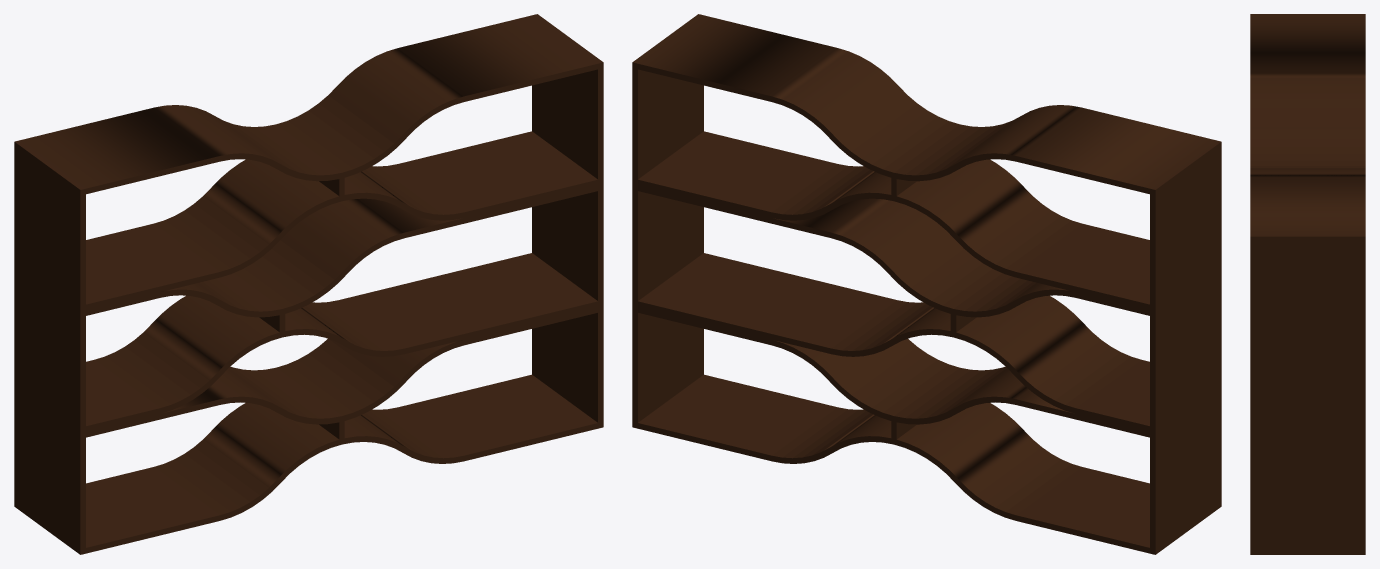
3 renders of one model, left to right at view 1: azimuth 30°, elevation 25°; view 2: azimuth 150°, elevation 25°; view 3: azimuth 270°, elevation 25°, orthographic. The views are drawn at different scales.
Visible parts, largest first — view 1: mesh1_mesh1-geometry; view 2: mesh1_mesh1-geometry; view 3: mesh1_mesh1-geometry.
Part boxes in pixels (x1,y1,x2,y2): mesh1_mesh1-geometry: (14, 14, 603, 554); mesh1_mesh1-geometry: (632, 14, 1221, 554); mesh1_mesh1-geometry: (1250, 14, 1365, 554).
Bounding box in the file's own units: 0.8186 × 0.5457 × 0.1791.
